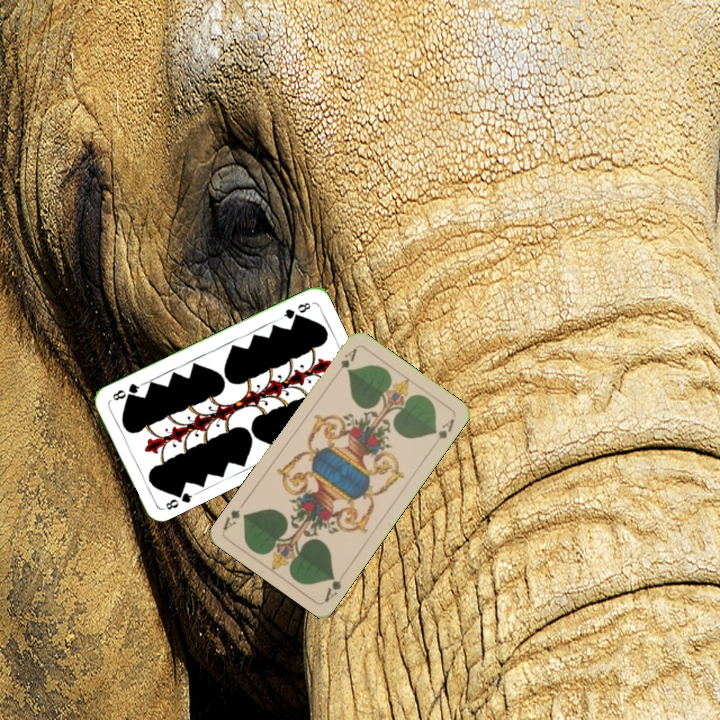G8: (161, 485, 197, 512), (277, 298, 314, 322)
GA: (321, 572, 344, 604), (337, 344, 360, 374)
